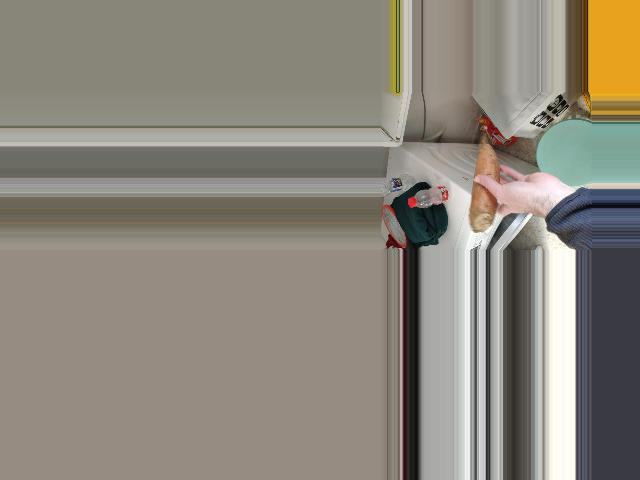sweet_potato: (477, 144, 498, 219)
